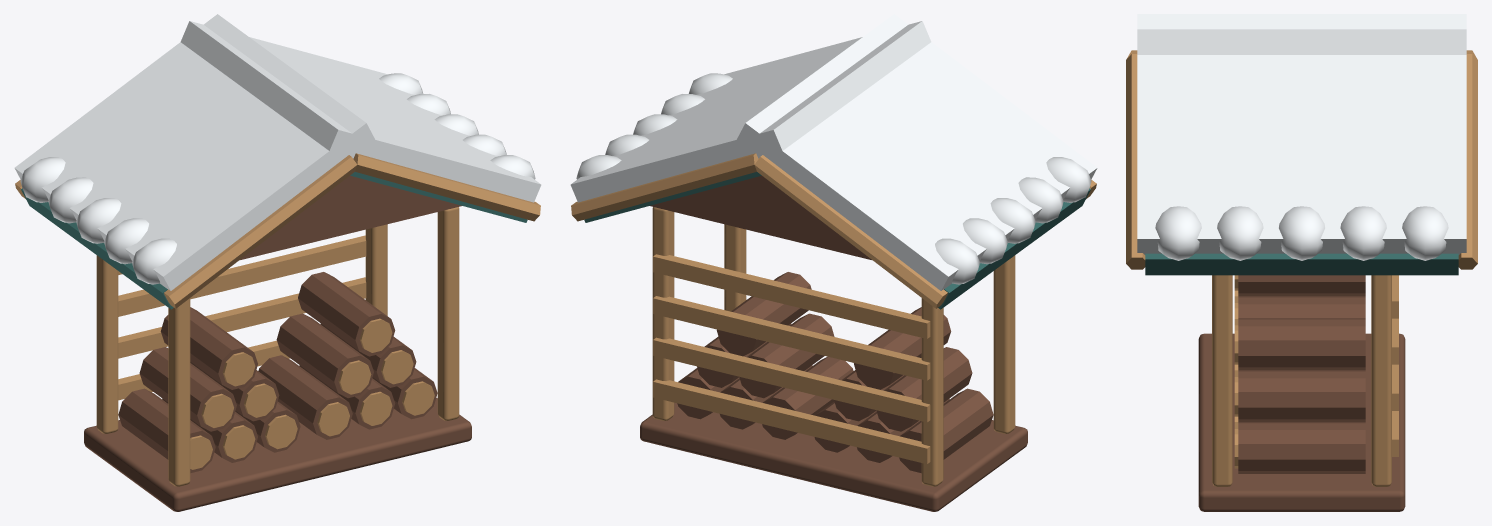
File: alpine-snow-village-stacked-firewood-shelter-2b80140d__19835.glb
The picture shows the model from 3 angles, left to right: view 1: azimuth 30°, elevation 25°; view 2: azimuth 150°, elevation 25°; view 3: azimuth 270°, elevation 25°; orthographic projection. The views are drawn at different scales.
Visible parts, largest first — view 1: stacked-firewood-shelter-snow, stacked-firewood-shelter-wood, stacked-firewood-shelter-oak, stacked-firewood-shelter-pine; view 2: stacked-firewood-shelter-snow, stacked-firewood-shelter-oak, stacked-firewood-shelter-wood, stacked-firewood-shelter-pine; view 3: stacked-firewood-shelter-snow, stacked-firewood-shelter-wood, stacked-firewood-shelter-oak, stacked-firewood-shelter-pine.
Part boxes in pixels (bbox=[...]): stacked-firewood-shelter-snow: bbox=[14, 14, 541, 290]; stacked-firewood-shelter-wood: bbox=[84, 175, 471, 511]; stacked-firewood-shelter-oak: bbox=[15, 153, 540, 486]; stacked-firewood-shelter-pine: bbox=[21, 172, 527, 309]; stacked-firewood-shelter-snow: bbox=[570, 14, 1097, 290]; stacked-firewood-shelter-oak: bbox=[571, 153, 1096, 486]; stacked-firewood-shelter-wood: bbox=[640, 175, 1027, 511]; stacked-firewood-shelter-pine: bbox=[584, 172, 1090, 309]; stacked-firewood-shelter-snow: bbox=[1137, 14, 1466, 260]; stacked-firewood-shelter-wood: bbox=[1198, 275, 1405, 511]; stacked-firewood-shelter-oak: bbox=[1126, 50, 1477, 486]; stacked-firewood-shelter-pine: bbox=[1145, 253, 1458, 275].
Bounding box in the file's own units: 3.21 × 2.86 × 2.21.
